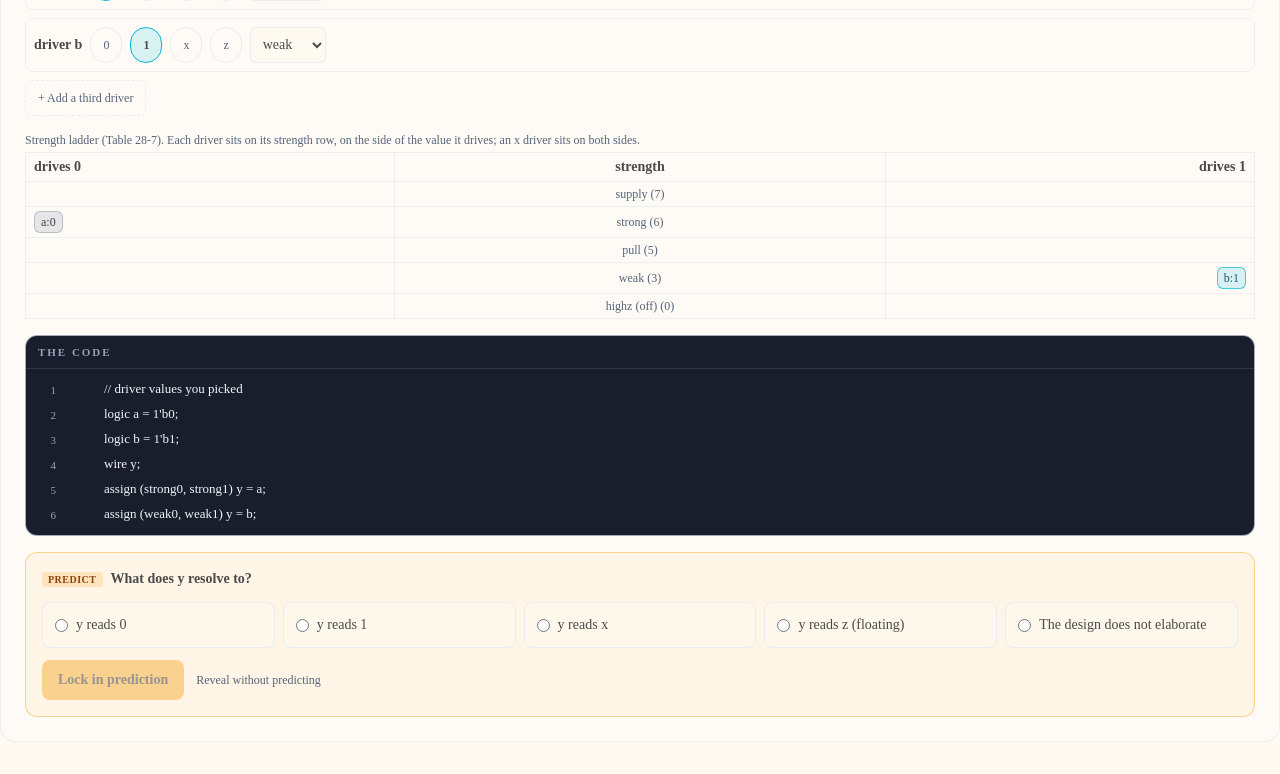
it: NetResolutionSimulator › gates the result behind a prediction and diagnoses 'conflict means x' when strengths differ
The image size is (1280, 774).
(page scrolled)
Check: the text "is the strongest driver" is not shown
Check: the text "assign (strong0, strong1) y = a;" is shown, box [104,481,266,496]
Click the radio button labelled "y reads x" at (543, 626), box [537,619,550,632]
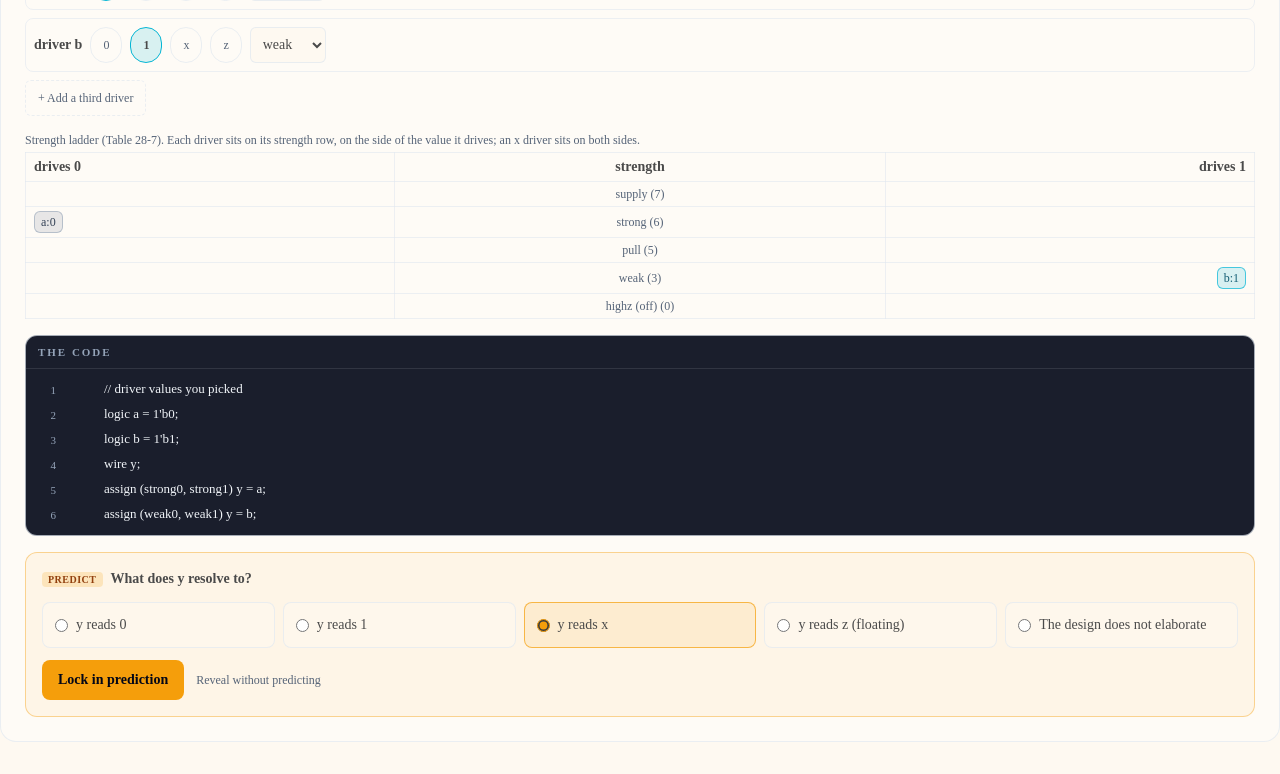
Click the button "Lock in prediction" at (113, 680), box [42,660,184,700]
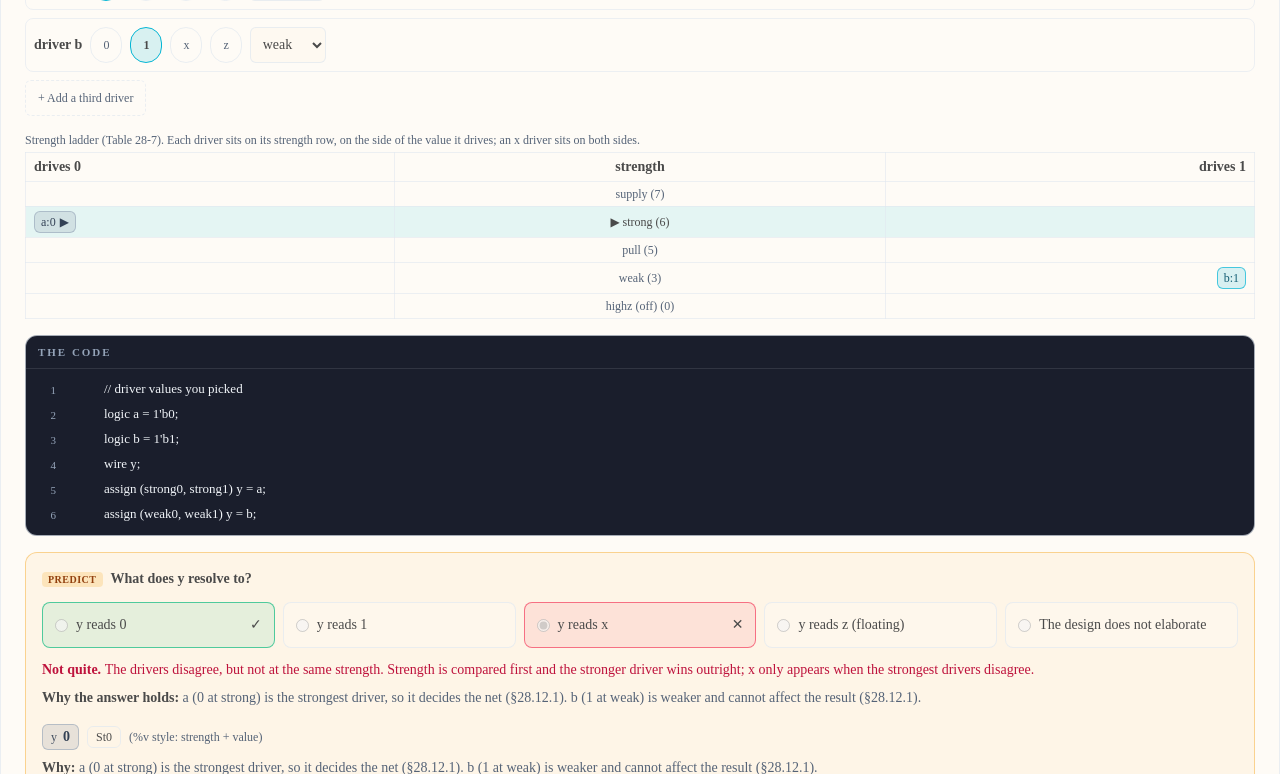
Check: the text "not at the same strength" is shown, box [105,662,1034,677]
Check: the text named "strength and value St0" is shown, box [87,726,121,748]
Check: the text "is the strongest driver" is shown, box [182,690,921,705]
